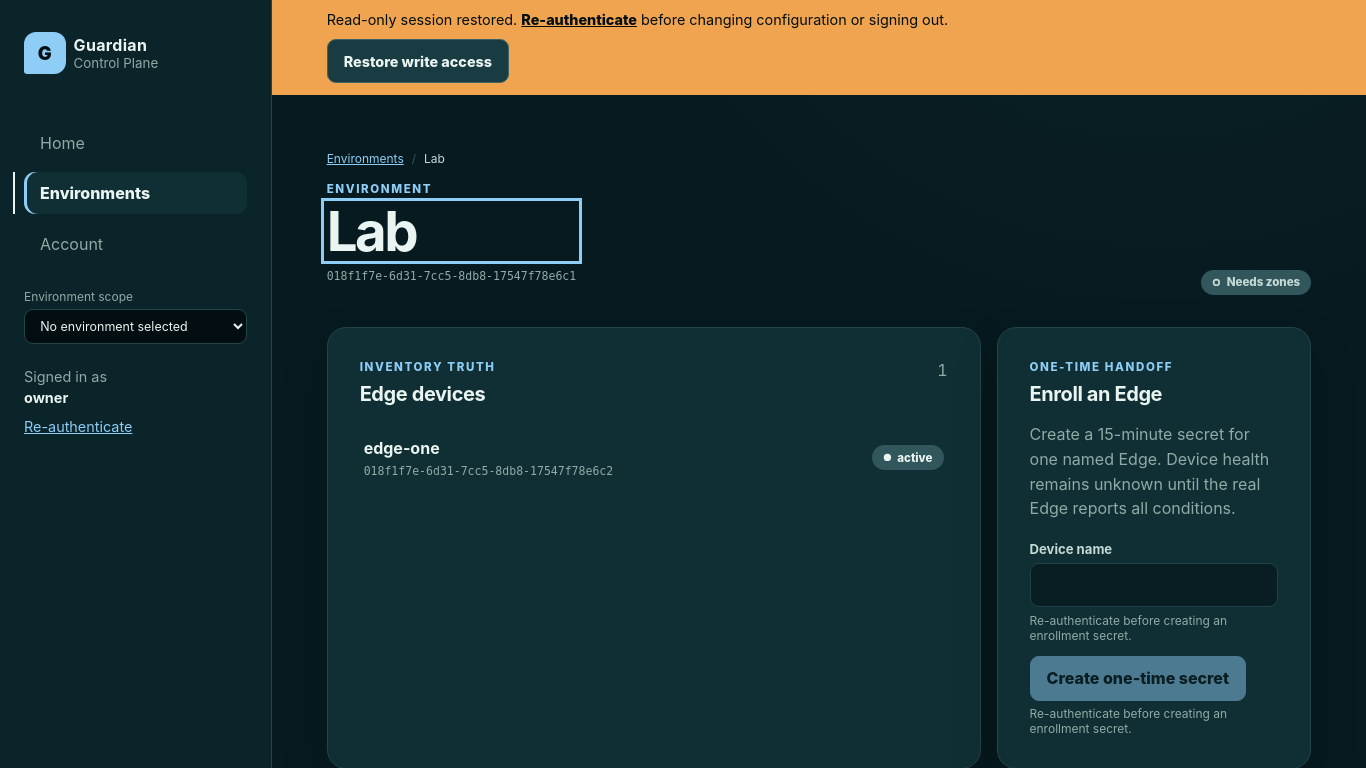
Test: the read-only banner › ends the session when the Control Plane refuses the cookie
Expected: the text "Read-only session restored." is shown, [327,11,521,28]
Click the button "Restore write access" at (418, 61), box [327,39,509,83]
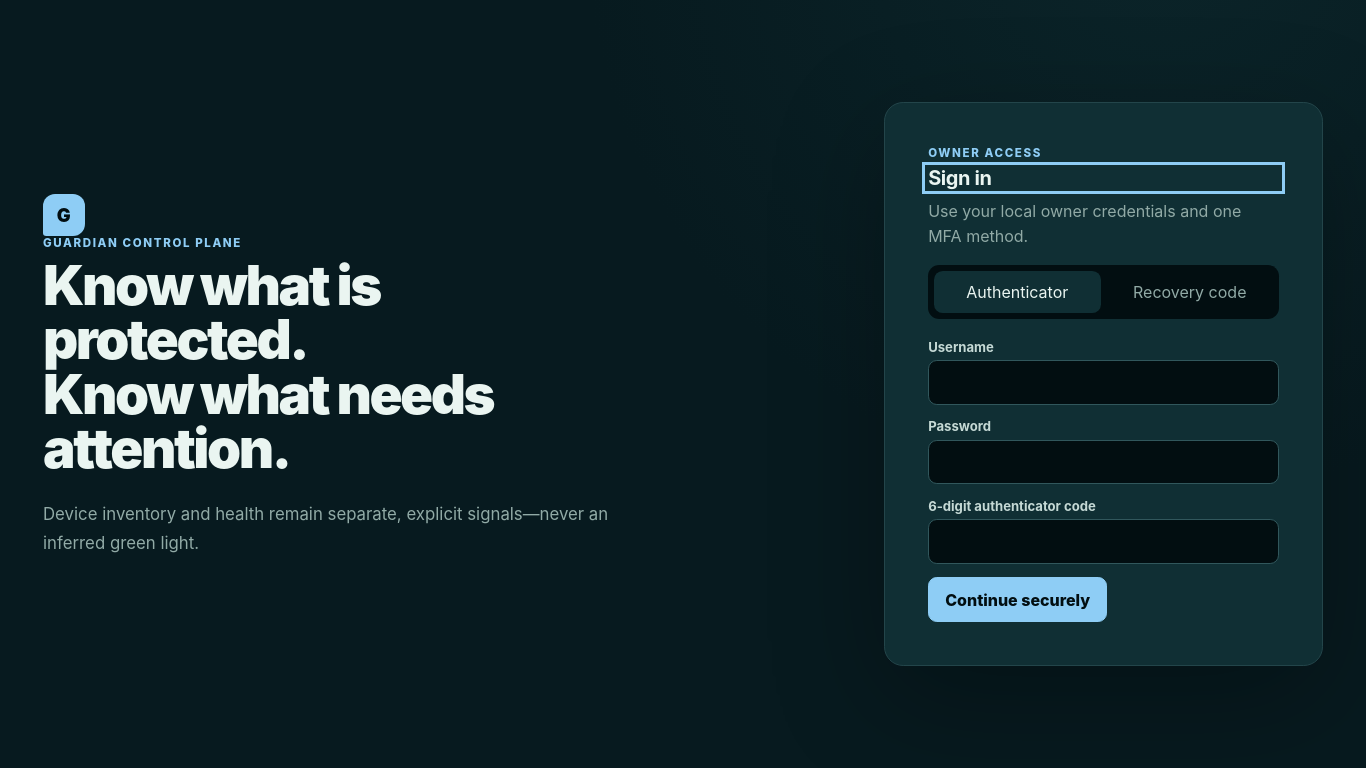
Result: the heading "Sign in" is shown at [928,166,992,190]
